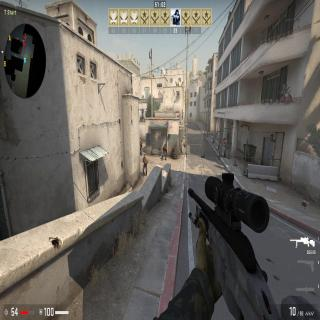T-Body: (142, 152, 148, 175), (162, 142, 168, 160), (140, 139, 142, 156)
T-Head: (144, 153, 146, 158), (164, 143, 166, 146), (140, 139, 142, 142)
